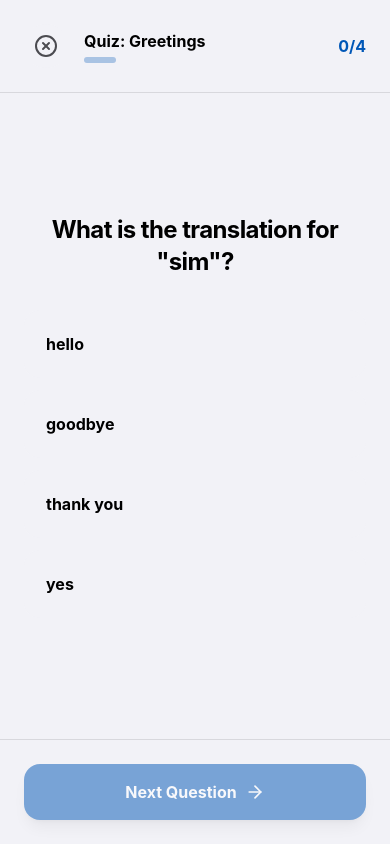
Test: Quiz › scores a correct multiple-choice answer
The image size is (390, 844).
Click the button "yes".
click(60, 584)  # box [24, 550, 366, 618]
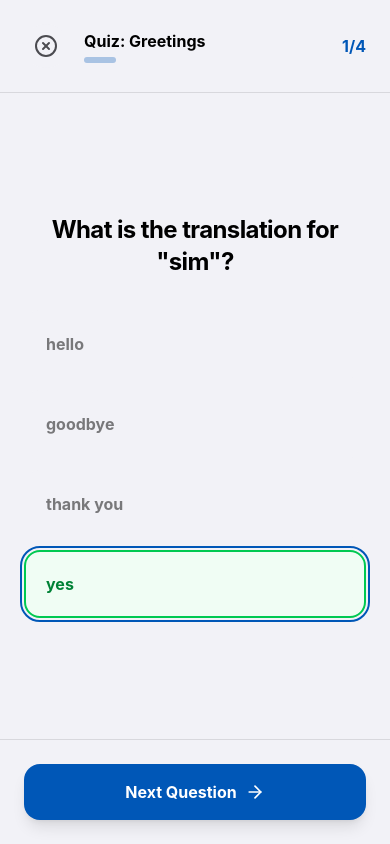
Check: the text "1/4" is shown, box [342, 34, 366, 58]
